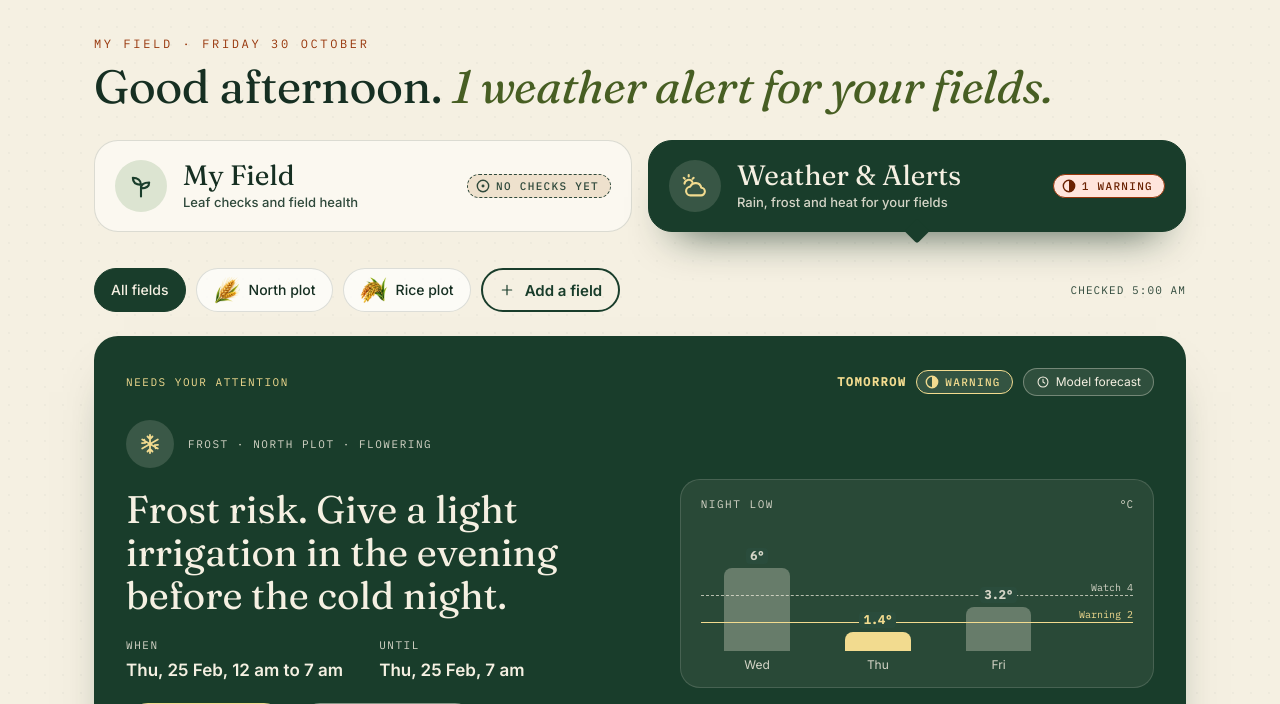
Test: Weather & Alerts states › field chips filter to one field and back to all
Click the button "Rice plot".
click(407, 290)  # box x1=343 y1=268 x2=471 y2=312
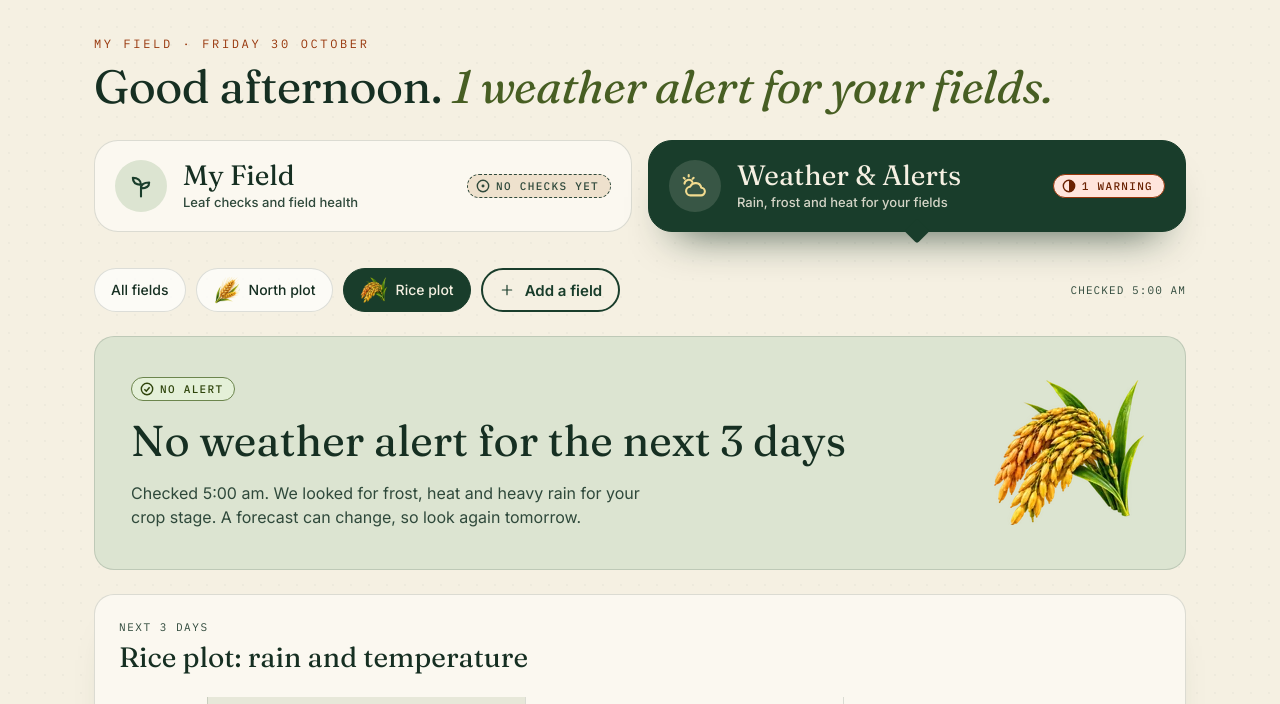
Expected: the heading "No weather alert for the next 3 days" is shown, x1=131 y1=417 x2=957 y2=465
Expected: the heading "Give a light irrigation" is gone
Click the button "All fields".
click(140, 290)  # box x1=94 y1=268 x2=186 y2=312
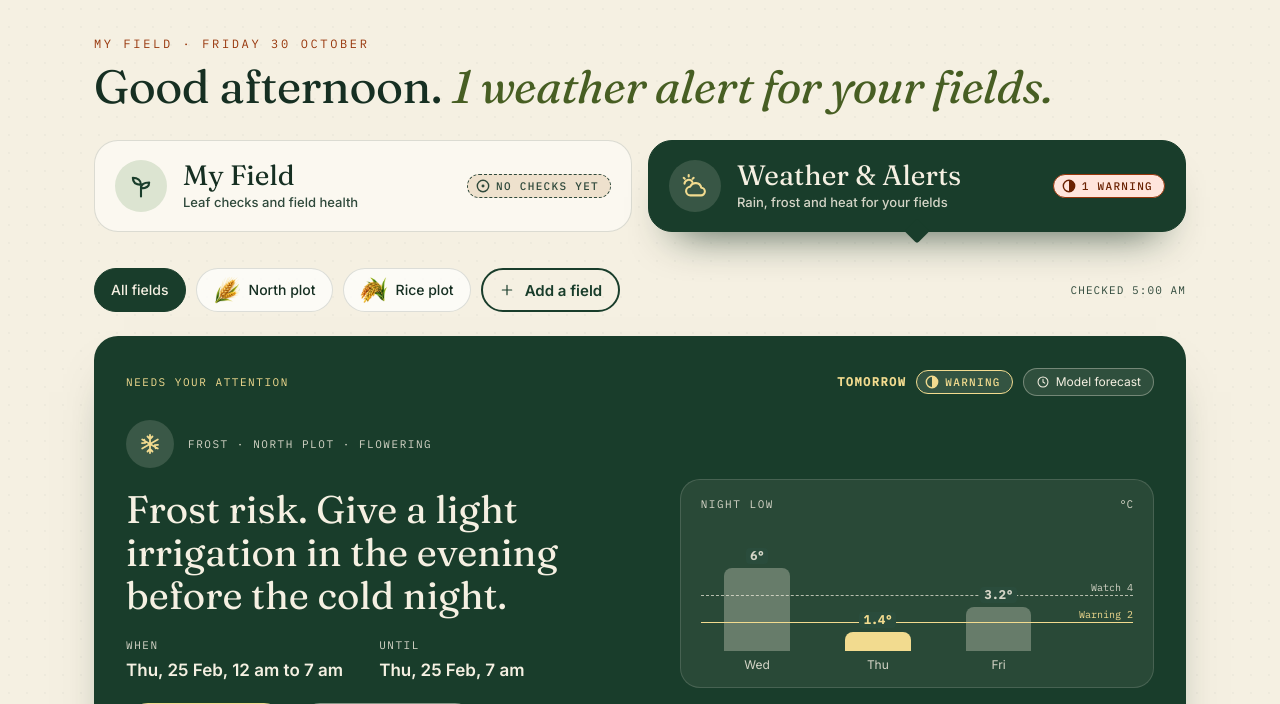
Expected: the heading "Give a light irrigation" is shown, x1=126 y1=485 x2=558 y2=619
